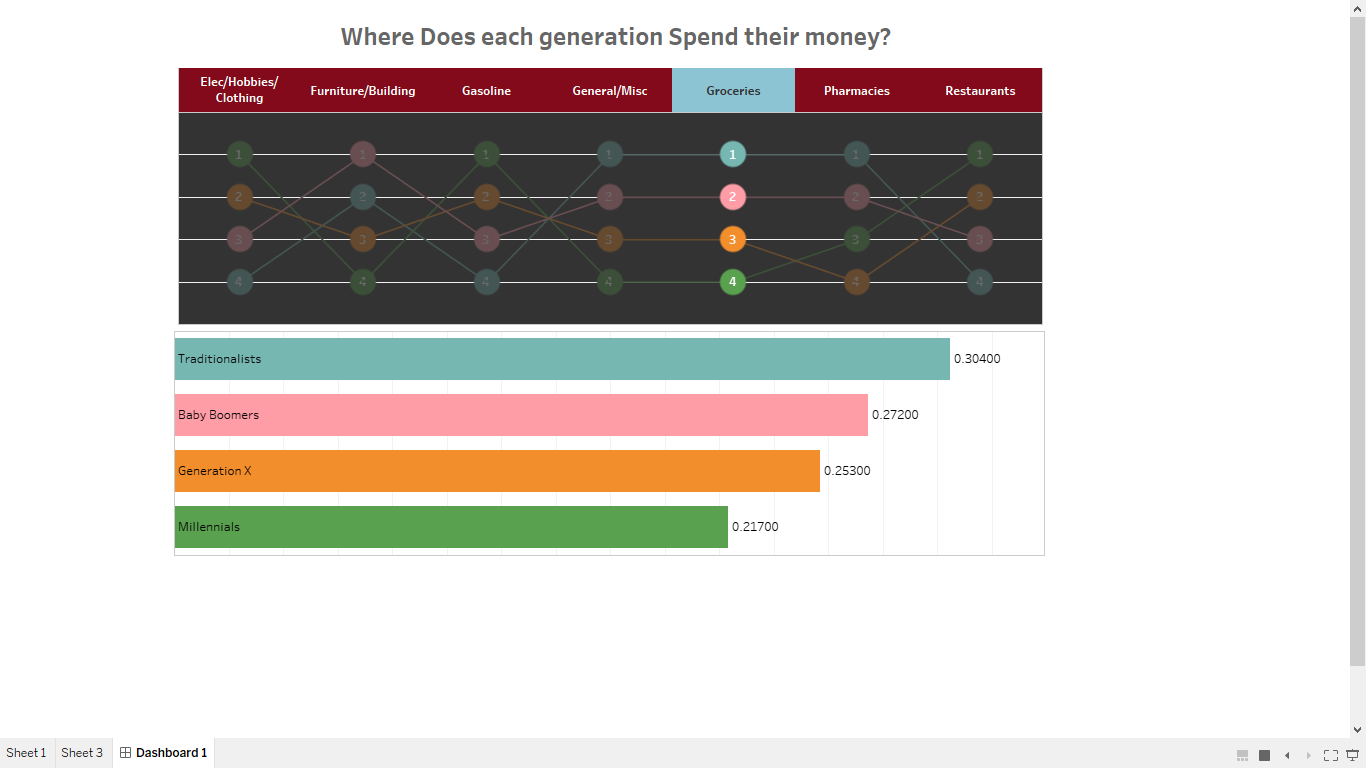

Layout of this report page (visuals, bound fields, positions):
{"tool":"tableau","page":{"name":"Dashboard 1","canvas":[1000,800],"ordinal":0},"visuals":[{"type":"worksheet","box":[5,10,873,51]},{"type":"worksheet","title":"Sheet 1","mark":"Line","cols":["Category"],"box":[4,68,865,257]},{"type":"worksheet","title":"Sheet 3","mark":"Bar","rows":["Category","Generation"],"cols":["% of Spending","% of Spending"],"box":[0,331,871,246]}]}

Visuals, with their boxes on the page's 1000x800 design canvas (x1, y1, x2, y2). These are canvas units, not pixel positions in the 1366x768 screenshot, which may show the page scaled, cropped or inside an application window:
worksheet: Rect(5, 10, 878, 61)
"Sheet 1" worksheet (Line marks): Rect(4, 68, 869, 325)
"Sheet 3" worksheet (Bar marks): Rect(0, 331, 871, 577)
